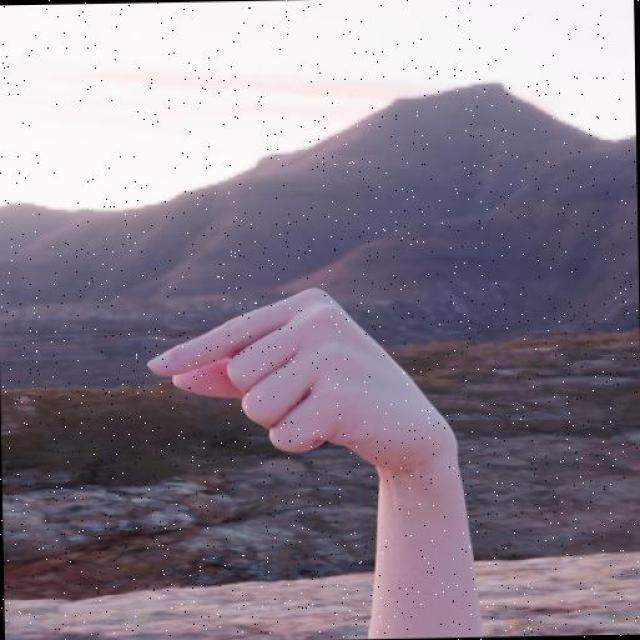G: (137, 273, 462, 496)
